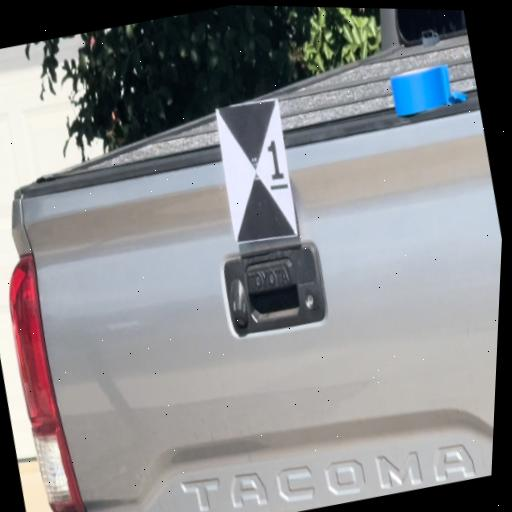target1: (209, 95, 304, 249)
